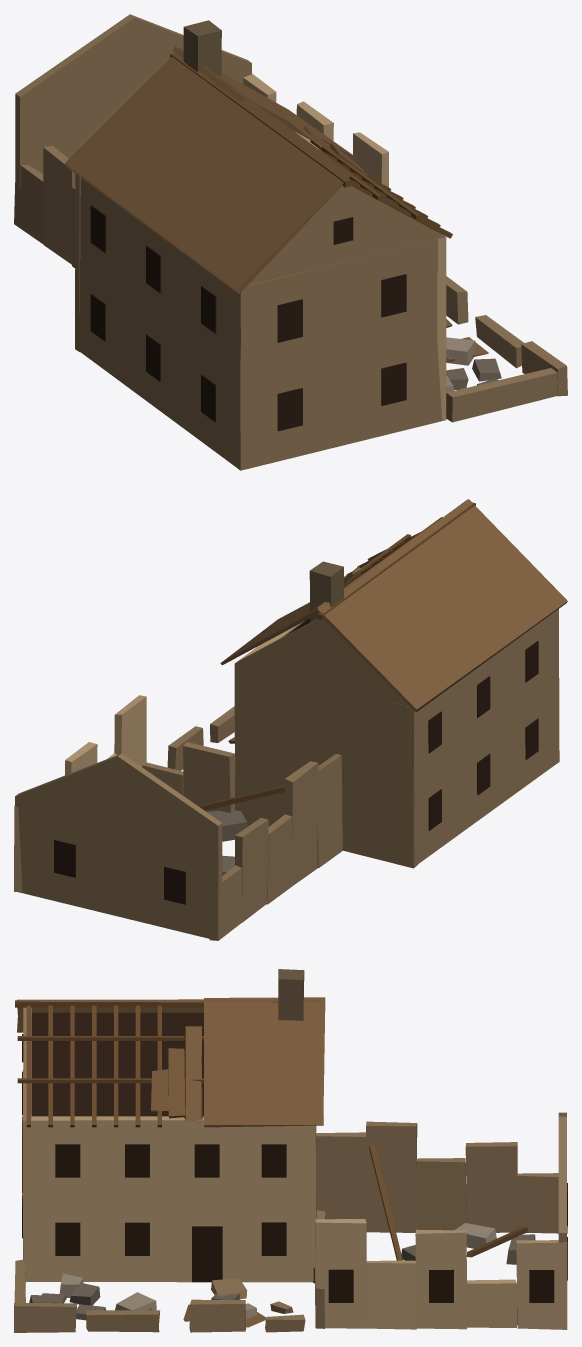
The model's file is farmhouse.glb.
The picture shows the model from 3 angles, top to bottom: view 1: azimuth 30°, elevation 25°; view 2: azimuth 150°, elevation 25°; view 3: azimuth 270°, elevation 25°; orthographic projection. The views are drawn at different scales.
Visible parts, largest first — view 1: farmhouse; view 2: farmhouse; view 3: farmhouse.
Boxes of the visible parts, x1,y1,x2,y2 form: farmhouse: (14, 14, 567, 470); farmhouse: (14, 499, 567, 940); farmhouse: (14, 969, 567, 1332).
Bounding box in the file's own units: 12.1 × 10.77 × 19.87.
